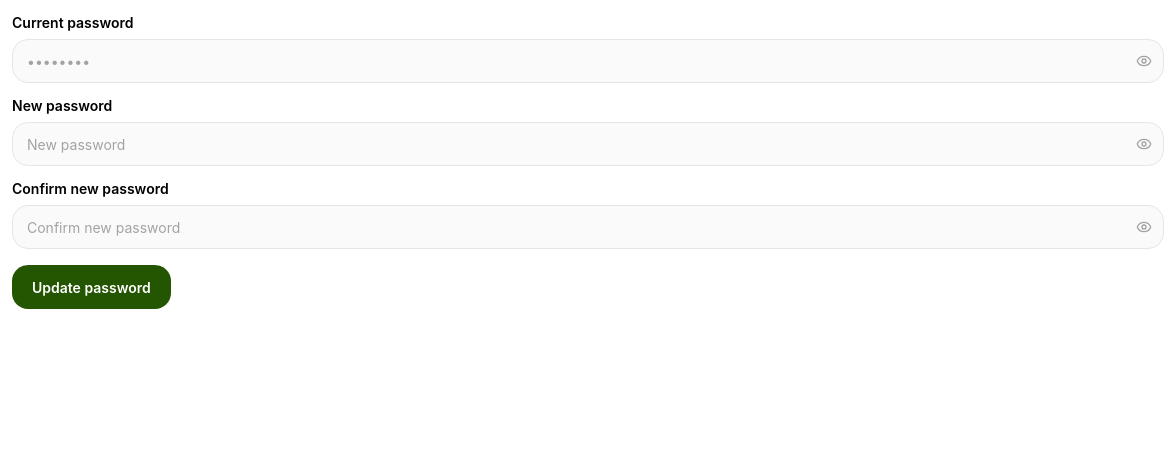
PasswordChangeForm › rejects a password that misses the requirements
Type "Temp!pass123" into the password field labelled "Current password" at (588, 61), box [12,39,1164,83]
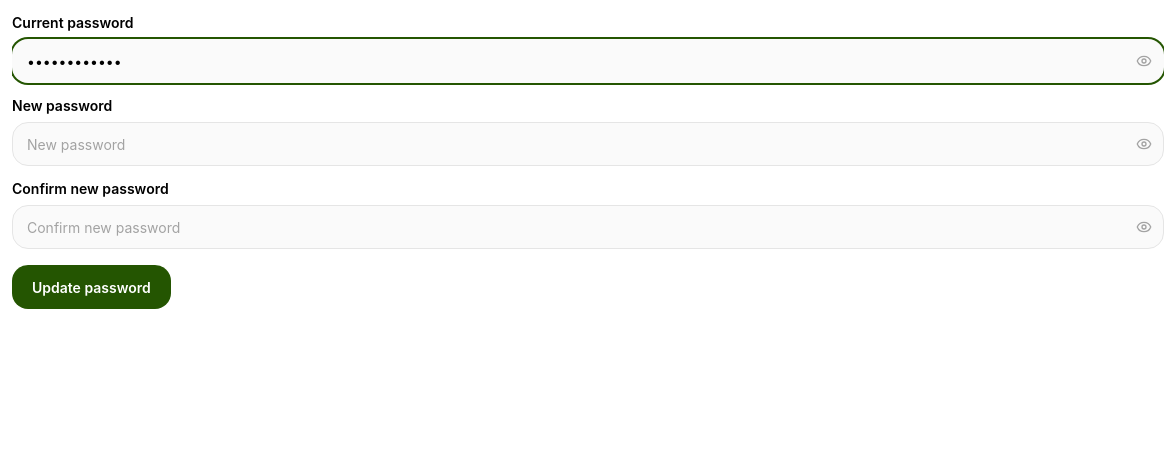
Type "weak" into the password field labelled "New password" at (588, 144), box [12,122,1164,166]
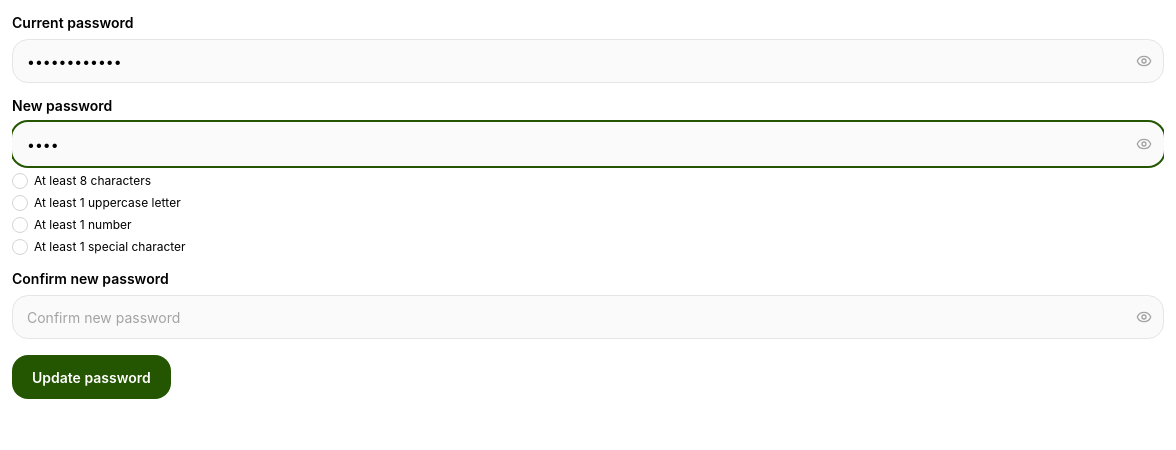
Type "weak" into the password field labelled "Confirm new password" at (588, 317), box [12,295,1164,339]
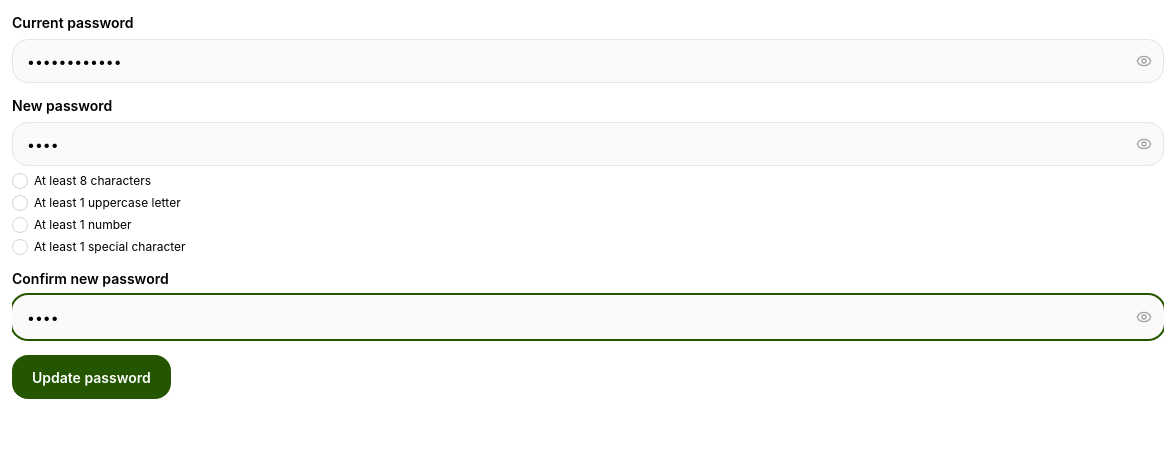
Click the button "Update password" at (91, 377), box [12,355,171,399]
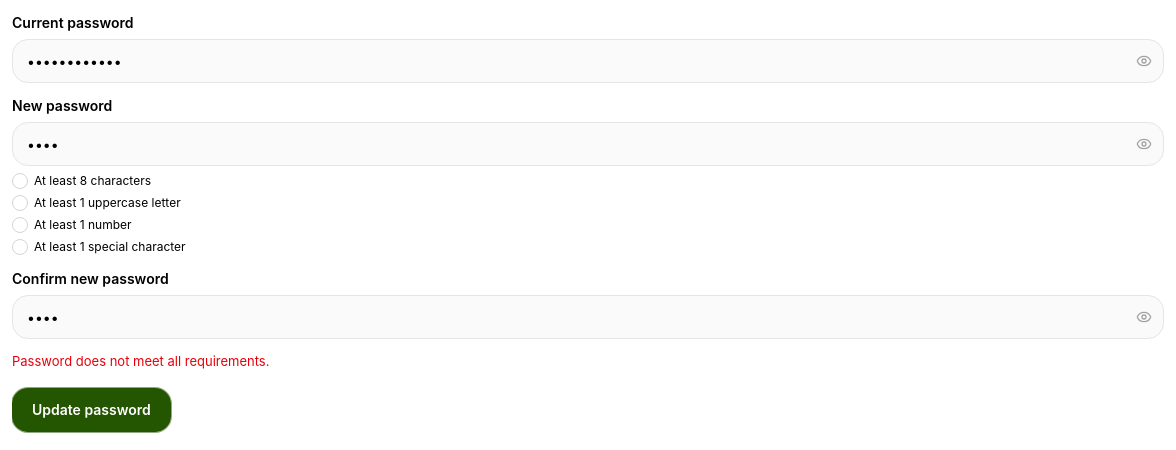
Expected: the text "Password does not meet all requirements." is shown, [12,353,270,369]
